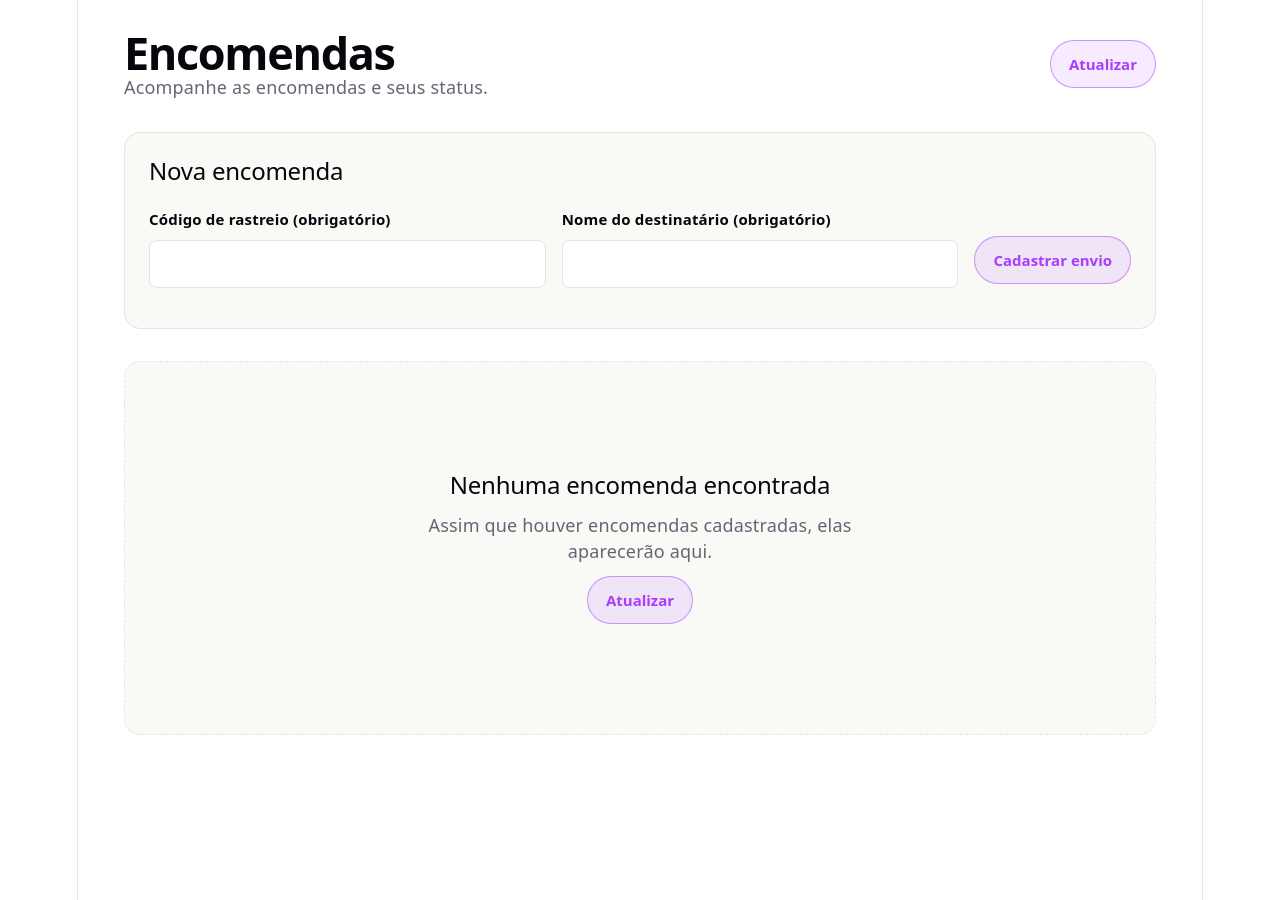
fluxos da página › lista pelo GET, cadastra com o payload mínimo e recarrega após 201
This screenshot has width=1280, height=900.
Expected: the heading "Nenhuma encomenda encontrada" is shown, [450,471,830,500]
Step 1. Type " AB123BR " into the field labelled "Código de rastreio (obrigatório)" → (347,264), box [149,240,546,288]
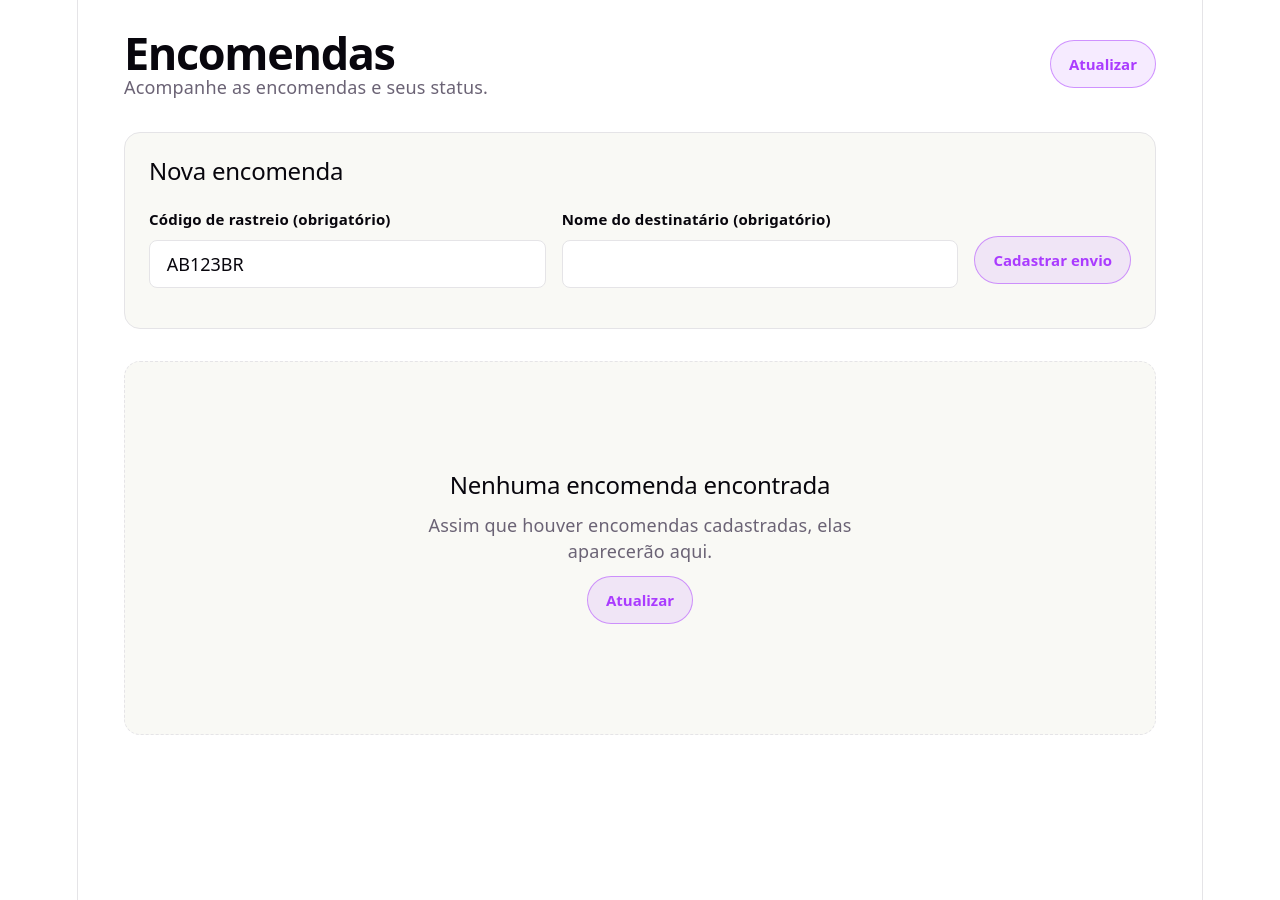
Step 2. Type "Maria Silva" into the field labelled "Nome do destinatário (obrigatório)" → (760,264), box [562,240,958,288]
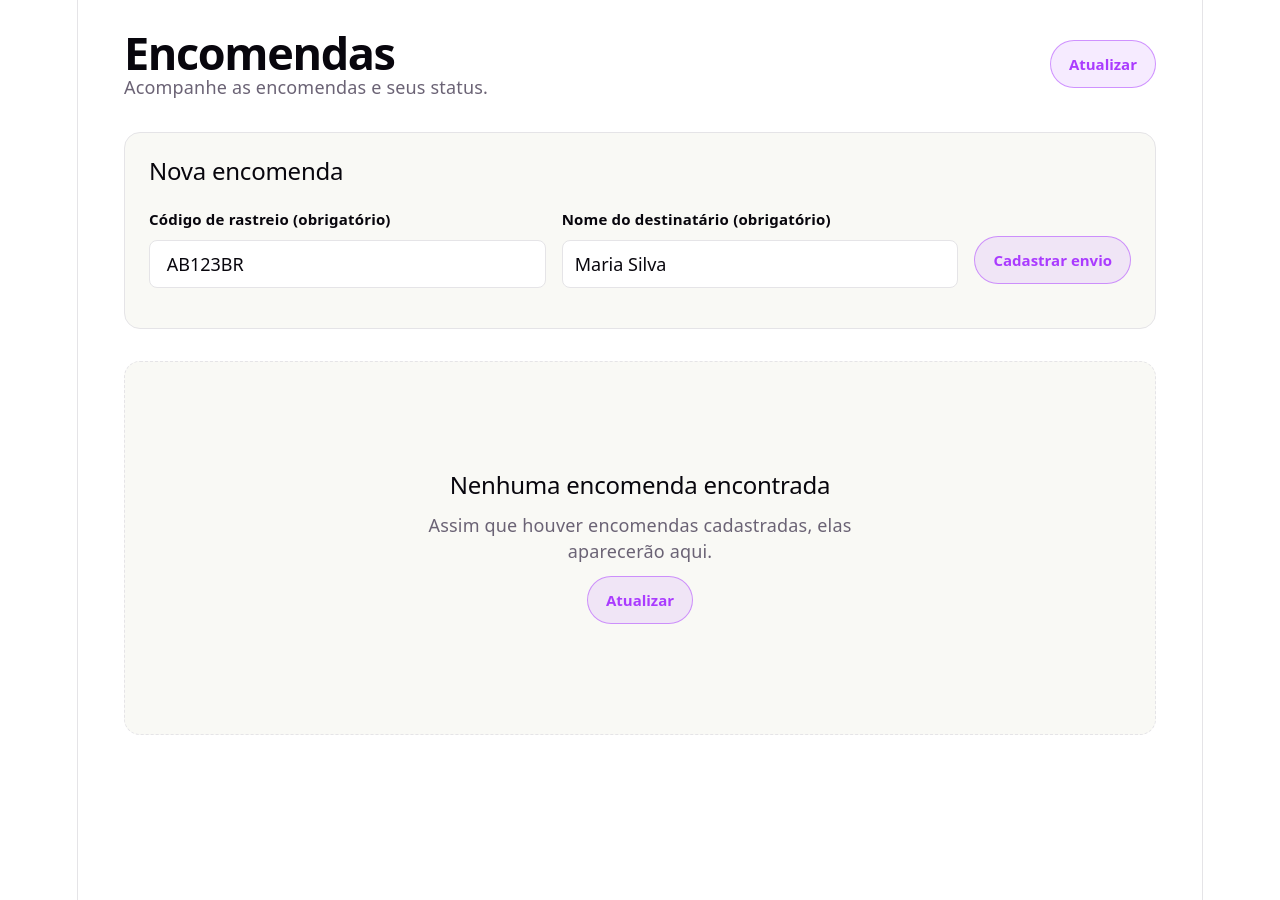
Step 3. Click the button "Cadastrar envio" → (1053,260), box [974,236,1131,284]
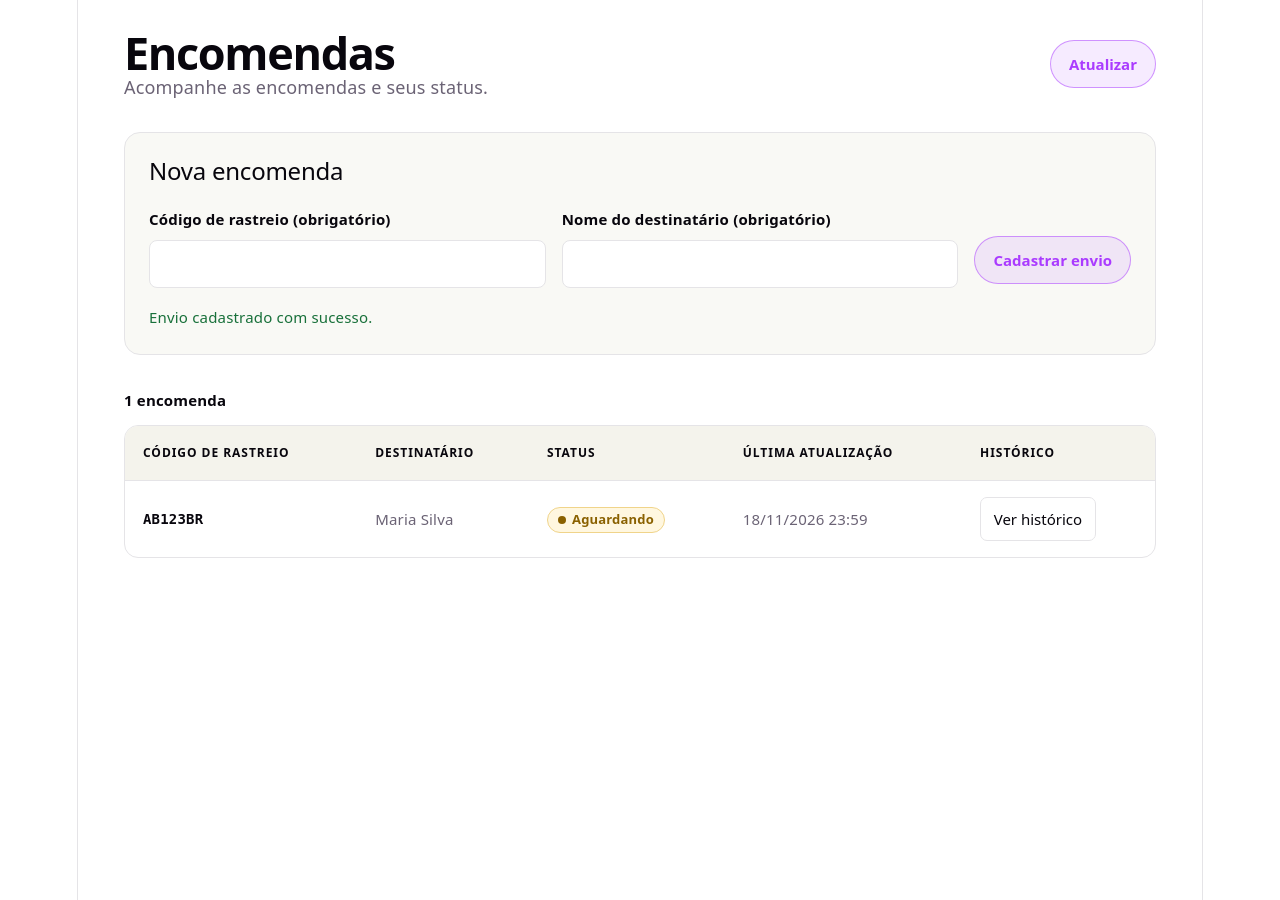
Expected: the text "Aguardando" is shown, [547,507,665,533]
Expected: the text "18/11/2026 23:59" is shown, [743,509,868,529]
